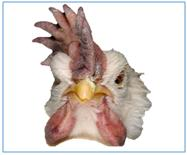AbNormal: (32, 4, 106, 78)
